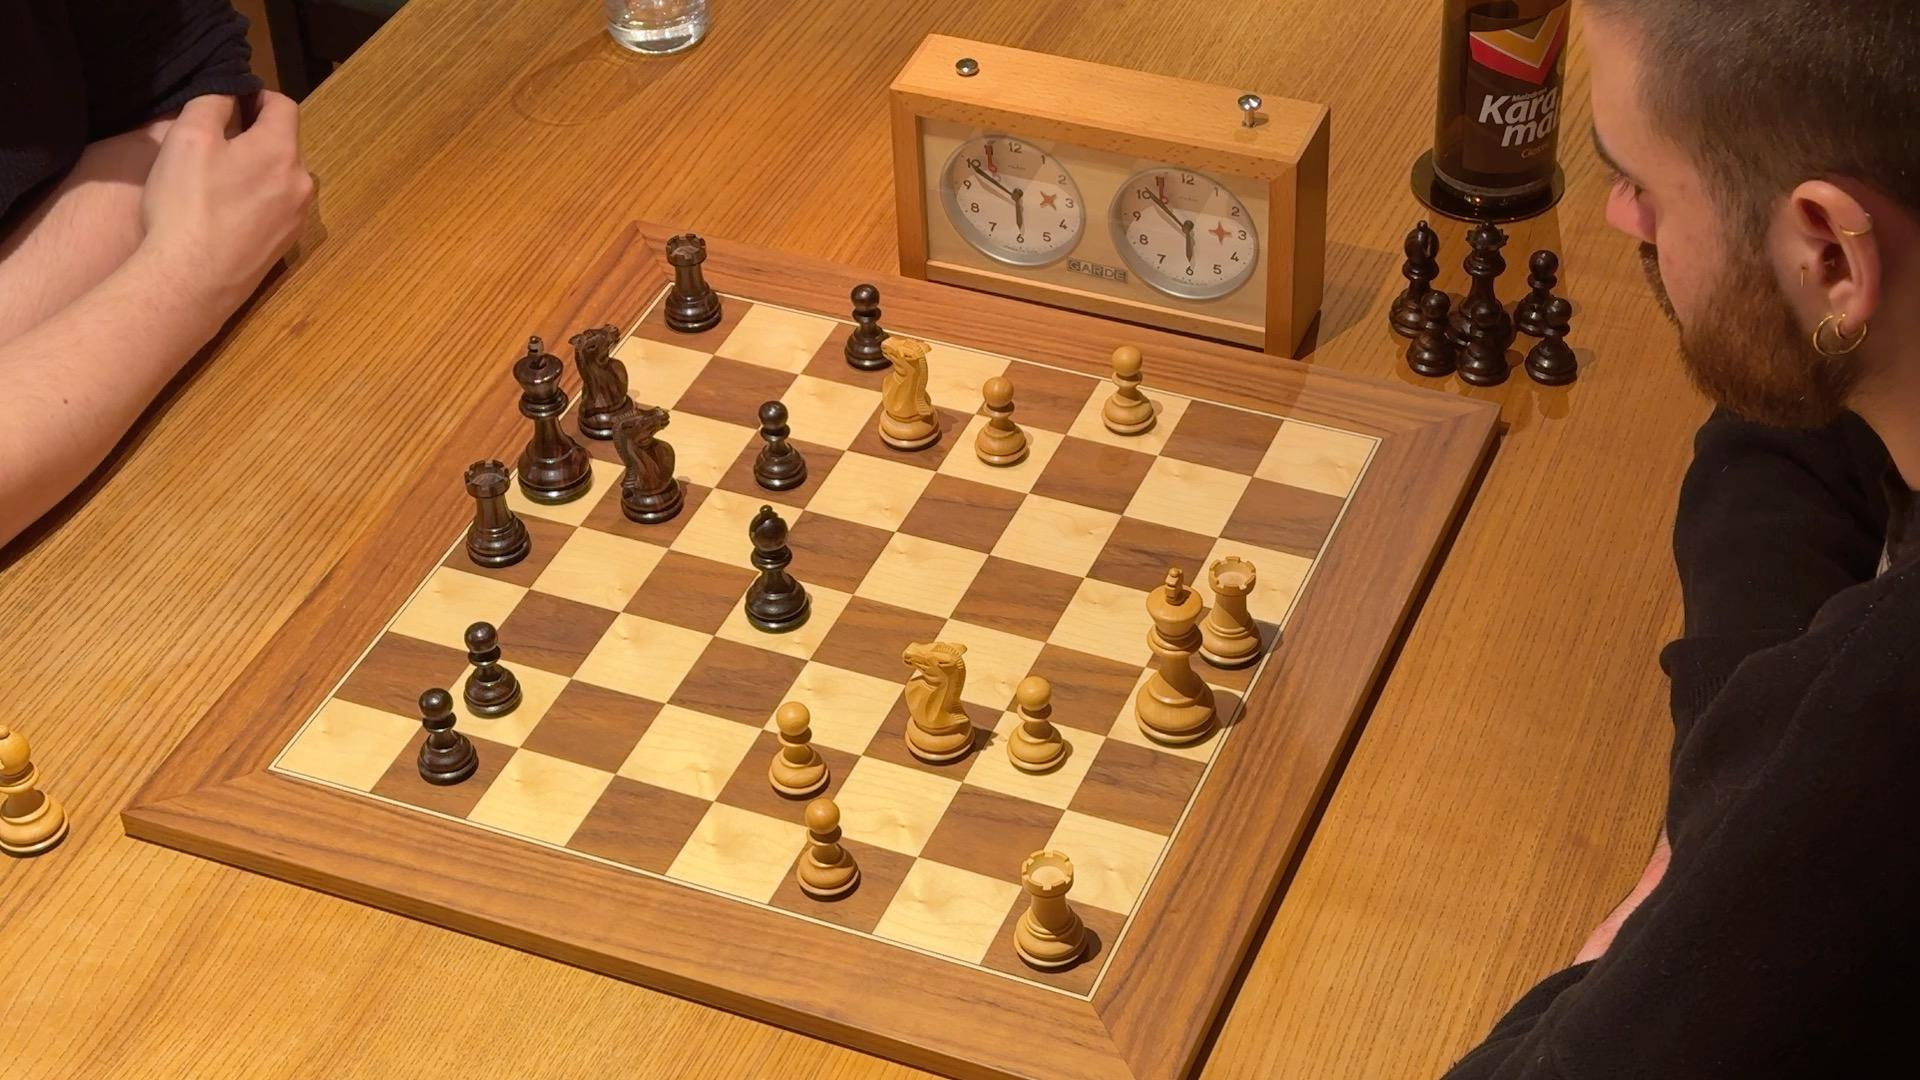Black Bishop: (728, 498, 820, 640)
Black King: (502, 330, 597, 513)
Black Knight: (599, 400, 698, 533), (564, 323, 651, 444)
Black Pawn: (409, 684, 483, 789), (454, 617, 524, 723), (745, 396, 814, 496), (839, 280, 899, 372)
Black Rook: (458, 454, 535, 572), (659, 227, 728, 338)
White King: (1127, 564, 1226, 752)
White Knight: (868, 327, 953, 464), (897, 638, 978, 766)
White Pawn: (793, 793, 862, 909), (764, 696, 835, 806), (1005, 669, 1072, 777), (1096, 339, 1164, 442), (967, 376, 1031, 477)
White Rook: (1004, 845, 1095, 977), (1192, 546, 1273, 674)
